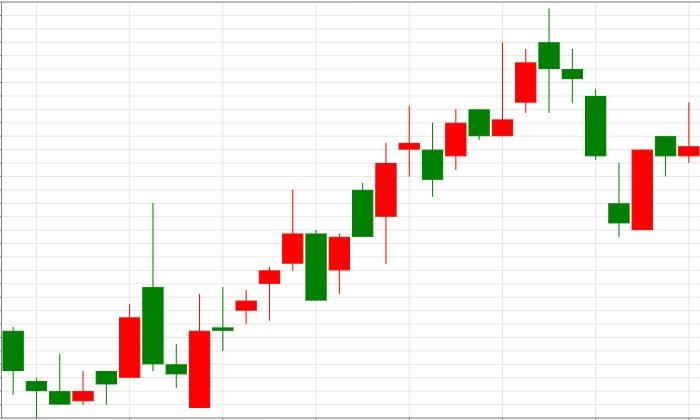bullish_engulfing_rise: (538, 8, 653, 237)
shooting_star_fall: (189, 189, 303, 408)
